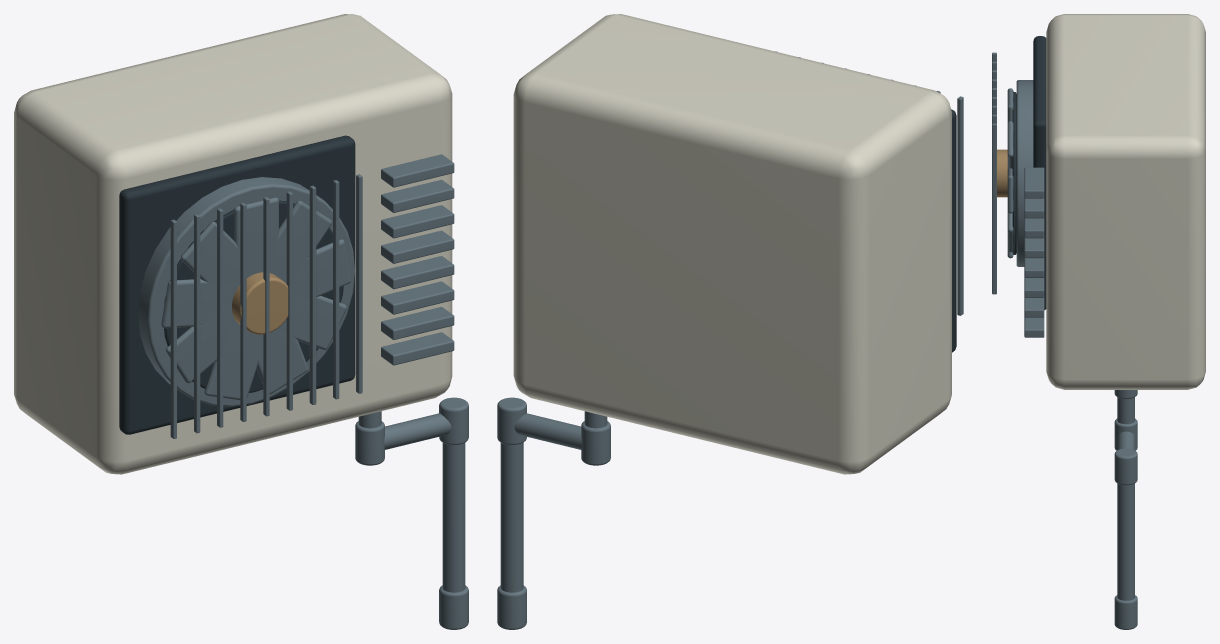
File: hvac.glb
The picture shows the model from 3 angles, left to right: view 1: azimuth 30°, elevation 25°; view 2: azimuth 150°, elevation 25°; view 3: azimuth 270°, elevation 25°; orthographic projection. The views are drawn at different scales.
Visible parts, largest first — view 1: hvac_ivory, hvac_metal, hvac_dark, hvac_bronze; view 2: hvac_ivory, hvac_metal, hvac_dark; view 3: hvac_ivory, hvac_metal, hvac_dark, hvac_bronze.
Part boxes in pixels (left/top/right/bottom): hvac_ivory: left=14, top=14, right=452, bottom=474; hvac_metal: left=138, top=154, right=468, bottom=629; hvac_dark: left=119, top=135, right=355, bottom=434; hvac_bronze: left=232, top=272, right=288, bottom=334; hvac_ivory: left=513, top=14, right=951, bottom=474; hvac_metal: left=497, top=51, right=963, bottom=629; hvac_dark: left=951, top=109, right=956, bottom=352; hvac_ivory: left=1046, top=14, right=1205, bottom=389; hvac_metal: left=992, top=52, right=1137, bottom=629; hvac_dark: left=1012, top=36, right=1046, bottom=310; hvac_bronze: left=997, top=149, right=1007, bottom=197.
Bounding box in the file's own units: 1.86 × 2.58 × 1.07.
